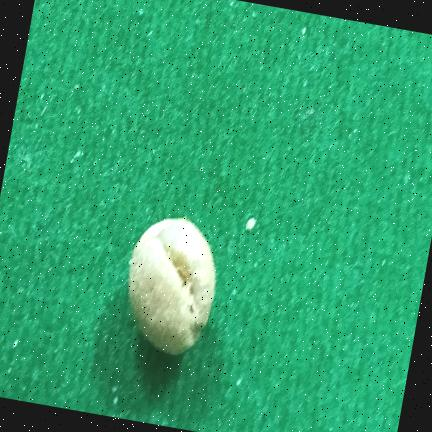good: (129, 218, 215, 355)
